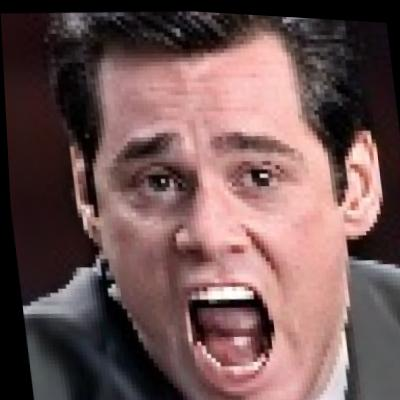angry: (82, 36, 360, 400)
